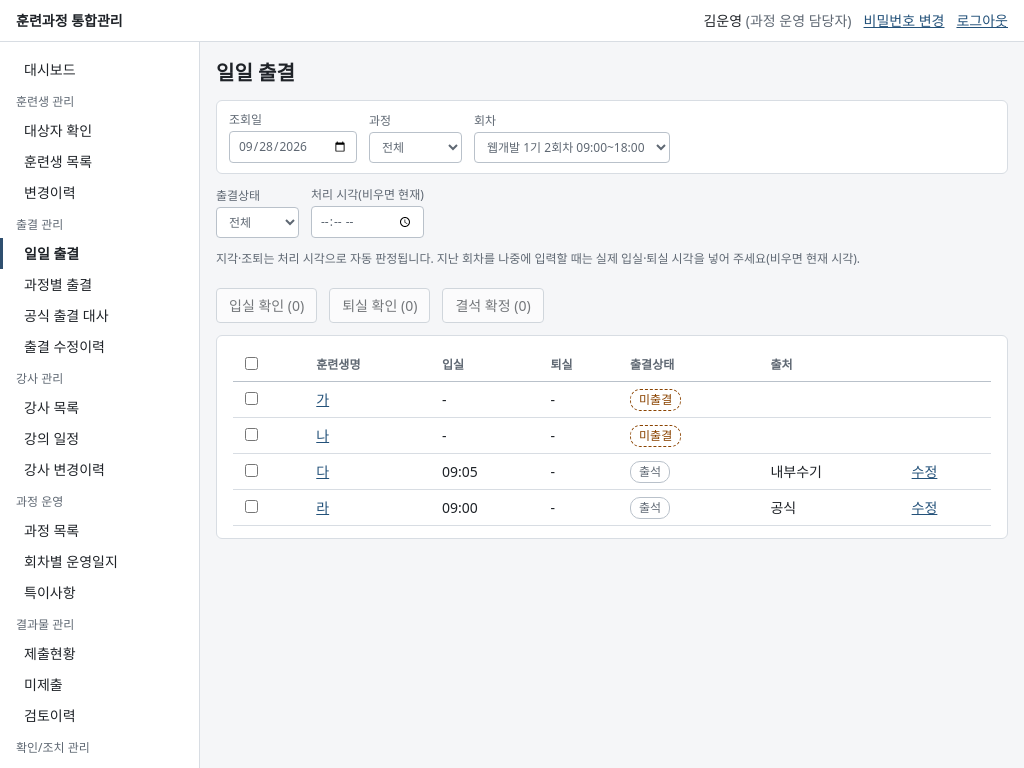
Scenario: S07 일일 출결 › 미출결은 계산 badge 로 보이고, 선택한 미출결만 입실 확인(처리 시각 지정) — 이미 처리된 건은 건너뛰었다고 안내
Check: the dropdown labelled "회차" shows "웹개발 1기 2회차 09:00~18:00", box [474,132,670,163]
Check: the button "입실 확인 (0)" is disabled, box [216,288,317,323]
Step 1. Click the checkbox named "가 선택" → coordinates (252, 398), box [245,392,258,405]
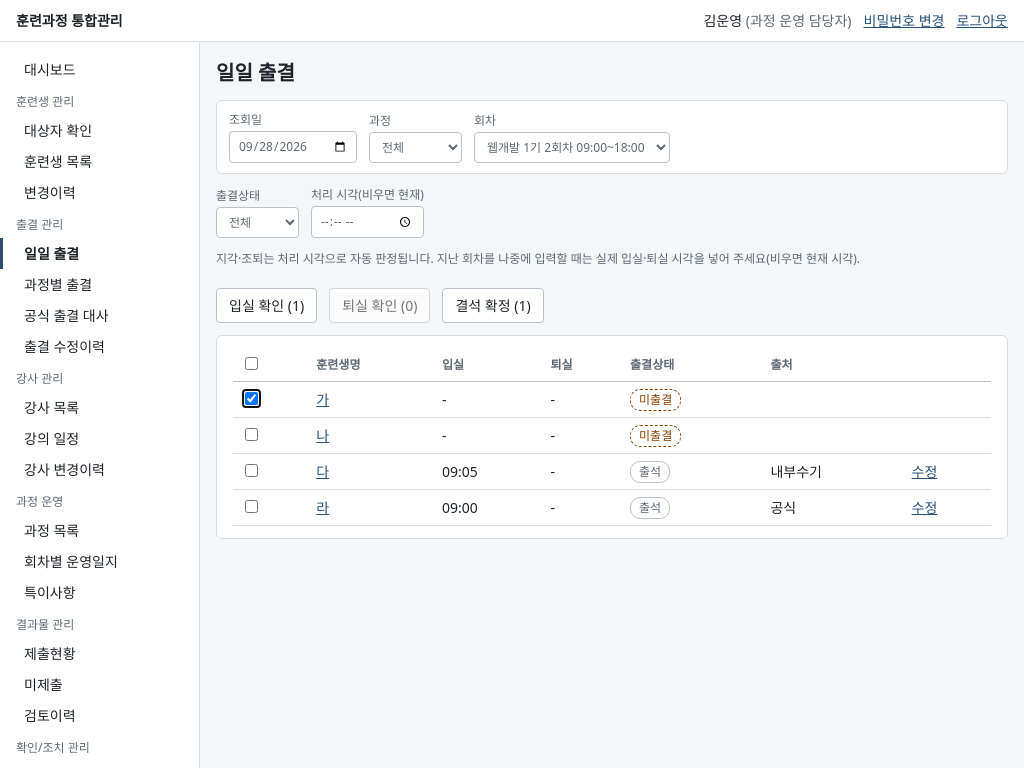
Step 2. Click the checkbox named "나 선택" → coordinates (252, 434), box [245,428,258,441]
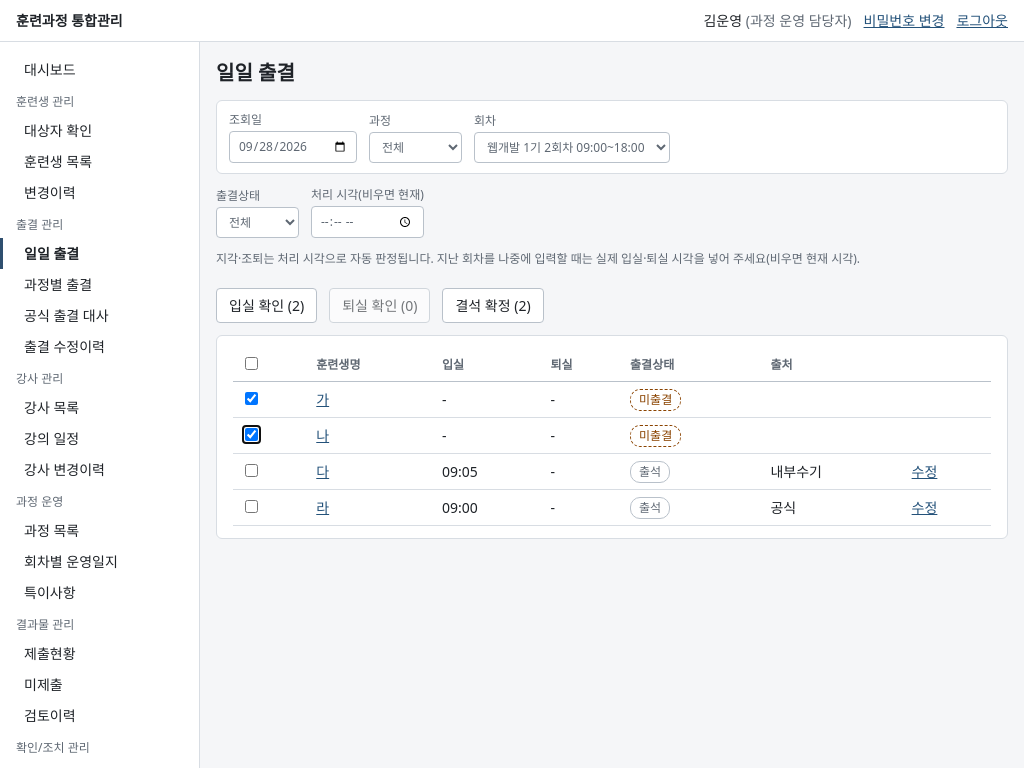
Step 3. Click the checkbox named "다 선택" → coordinates (252, 470), box [245,464,258,477]
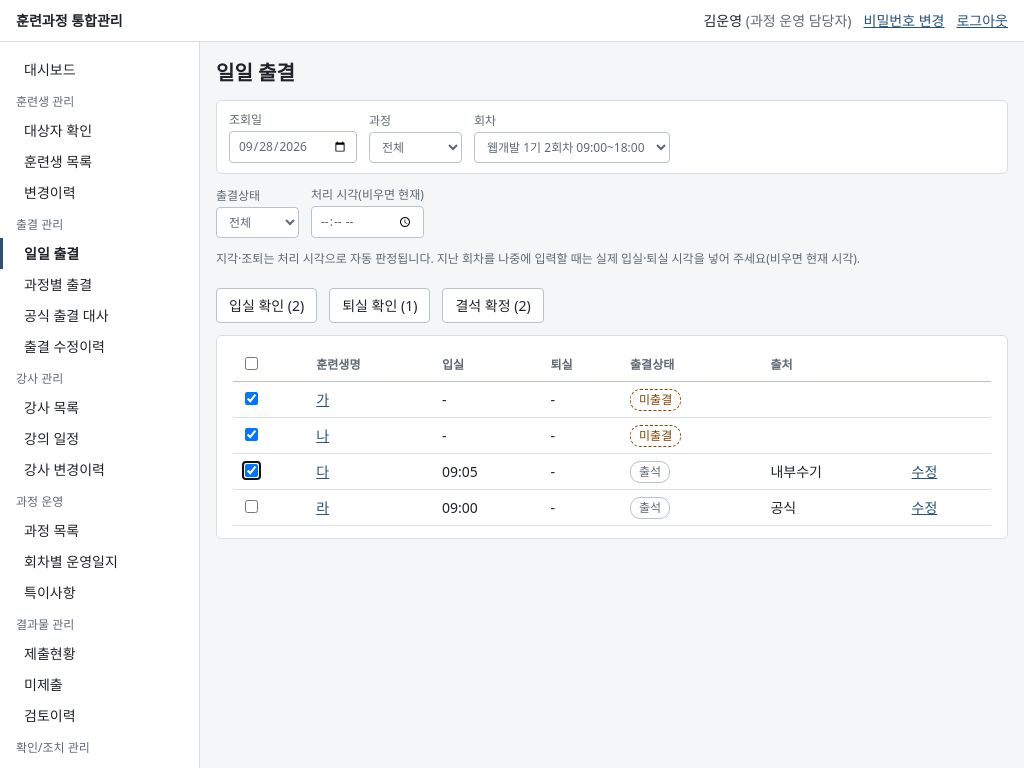
Check: the button "결석 확정 (2)" is enabled, box [442,288,544,323]
Step 4. Type "09:10" into the time field labelled "처리 시각(비우면 현재)" → coordinates (367, 222), box [311,206,424,238]
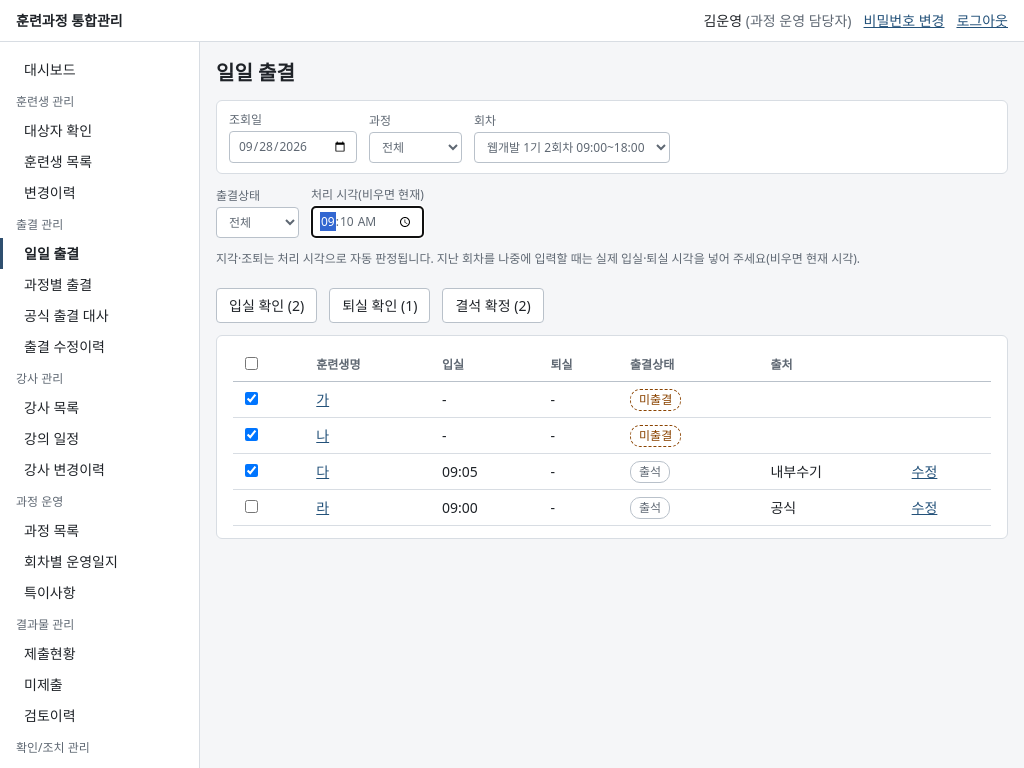
Step 5. Click the button "입실 확인 (2)" → coordinates (267, 306), box [216,288,317,323]
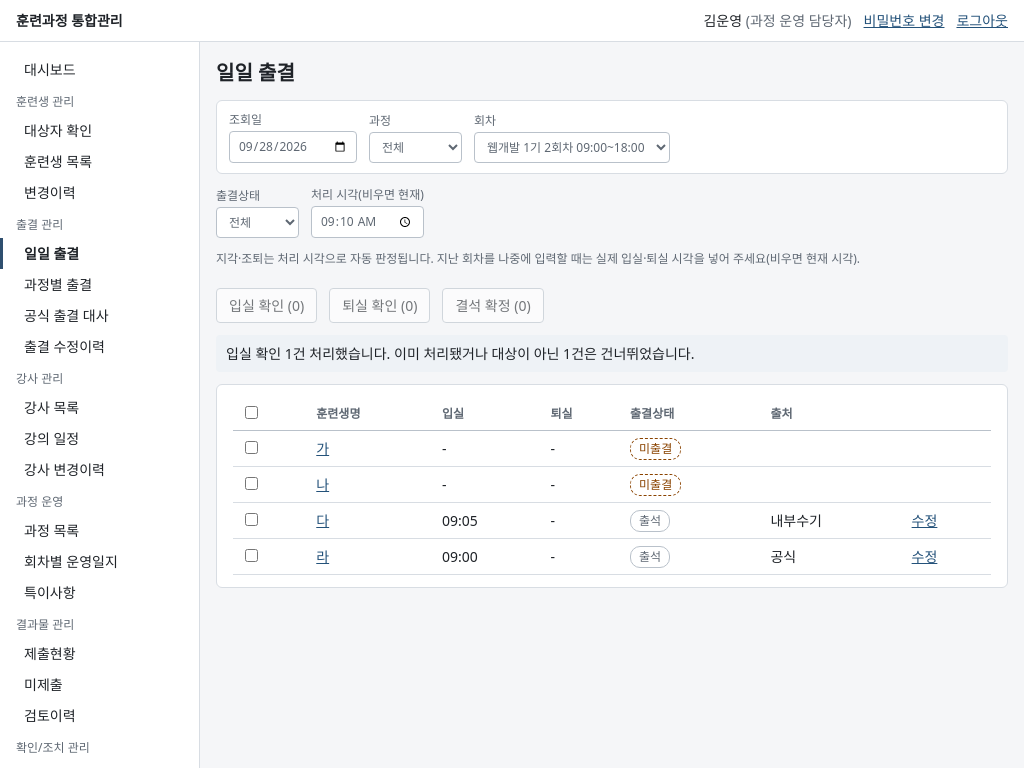
Check: the text "입실 확인 1건 처리했습니다. 이미 처리됐거나 대상이 아닌 1건은 건너뛰었습니다." is shown, box [216,335,1008,372]
